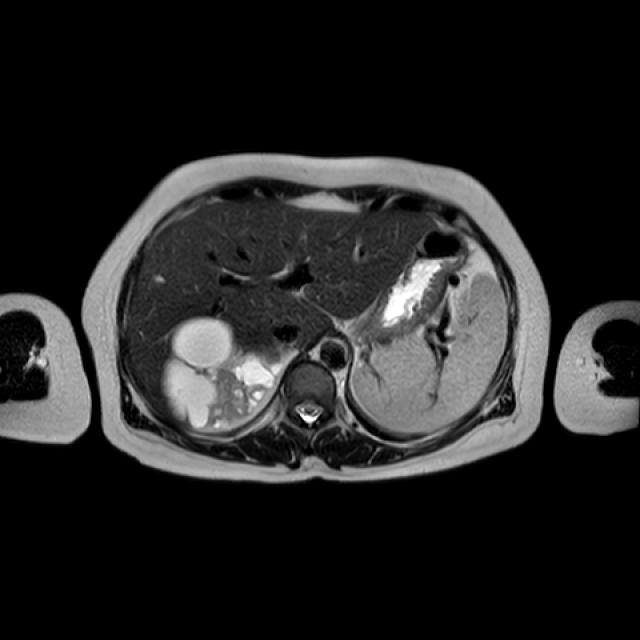sag: (160, 316, 285, 431)
